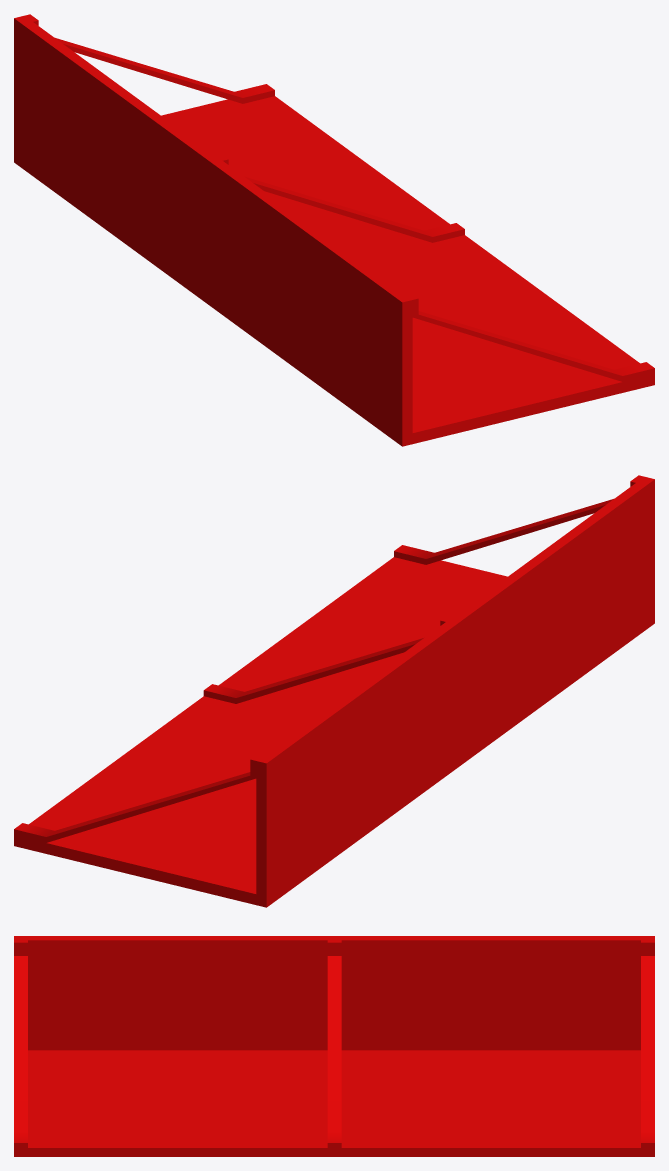
Rendered from Shelf.fbx.
3 views of the same model, one above another, from view 1: azimuth 30°, elevation 25°; view 2: azimuth 150°, elevation 25°; view 3: azimuth 270°, elevation 25° (orthographic). The views are drawn at different scales.
Parts seen in each view (by area): view 1: Shelf; view 2: Shelf; view 3: Shelf.
Boxes of the visible parts, bbox=[...] form: Shelf: bbox=[14, 14, 654, 446]; Shelf: bbox=[14, 475, 654, 907]; Shelf: bbox=[14, 936, 654, 1156].
Bounding box in the file's own units: 24.19 × 13.19 × 64.39.
